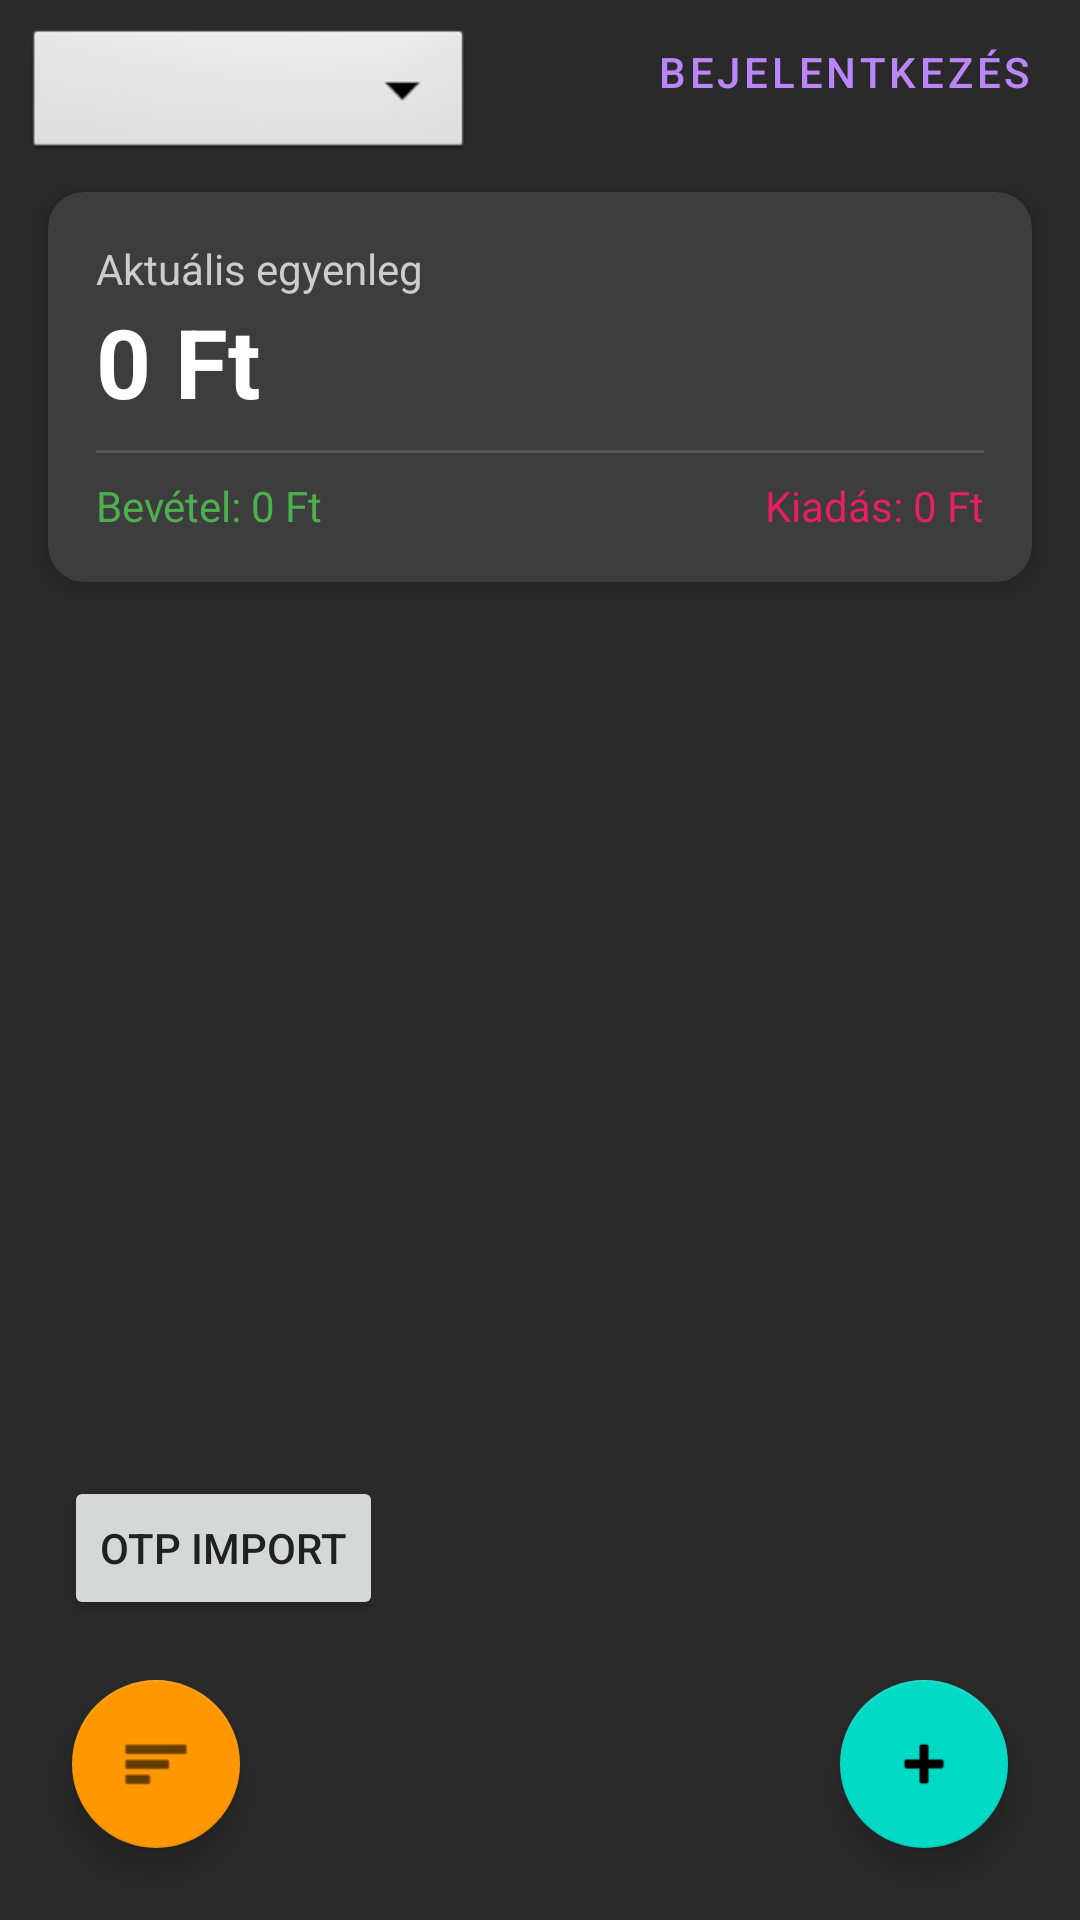

Where icons sit on this 1080px x 1920px app screen, as (x1, y1, x2, y2):
Statisztika megnyitása: (72, 1680, 240, 1848)
Tranzakció hozzáadása: (840, 1680, 1008, 1848)
